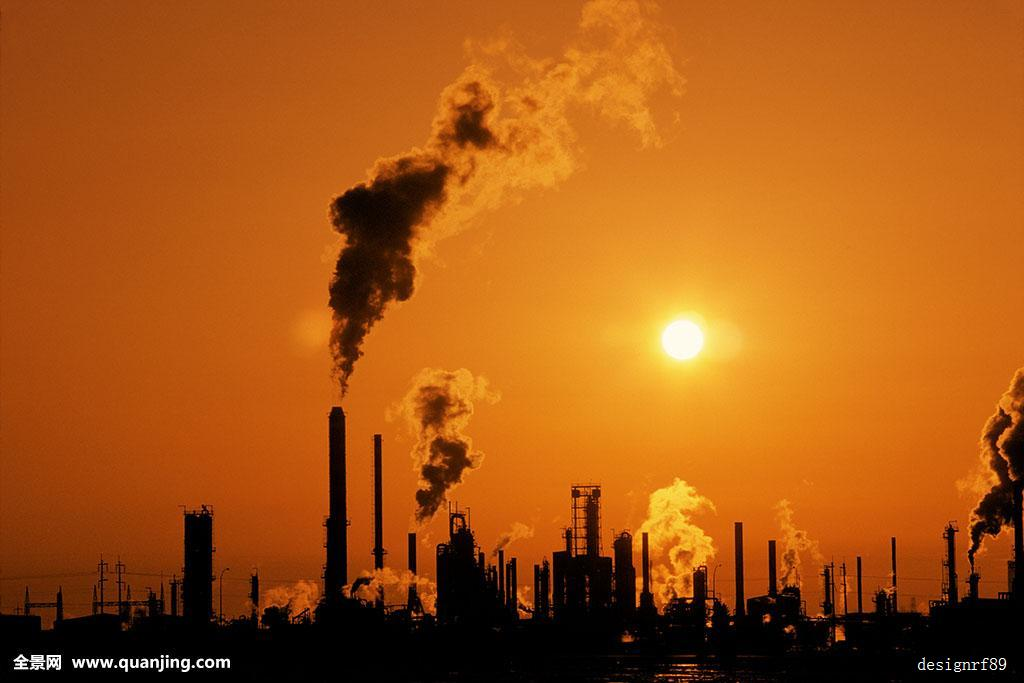dust: (210, 99, 483, 431), (352, 373, 487, 554), (932, 372, 1020, 574)
